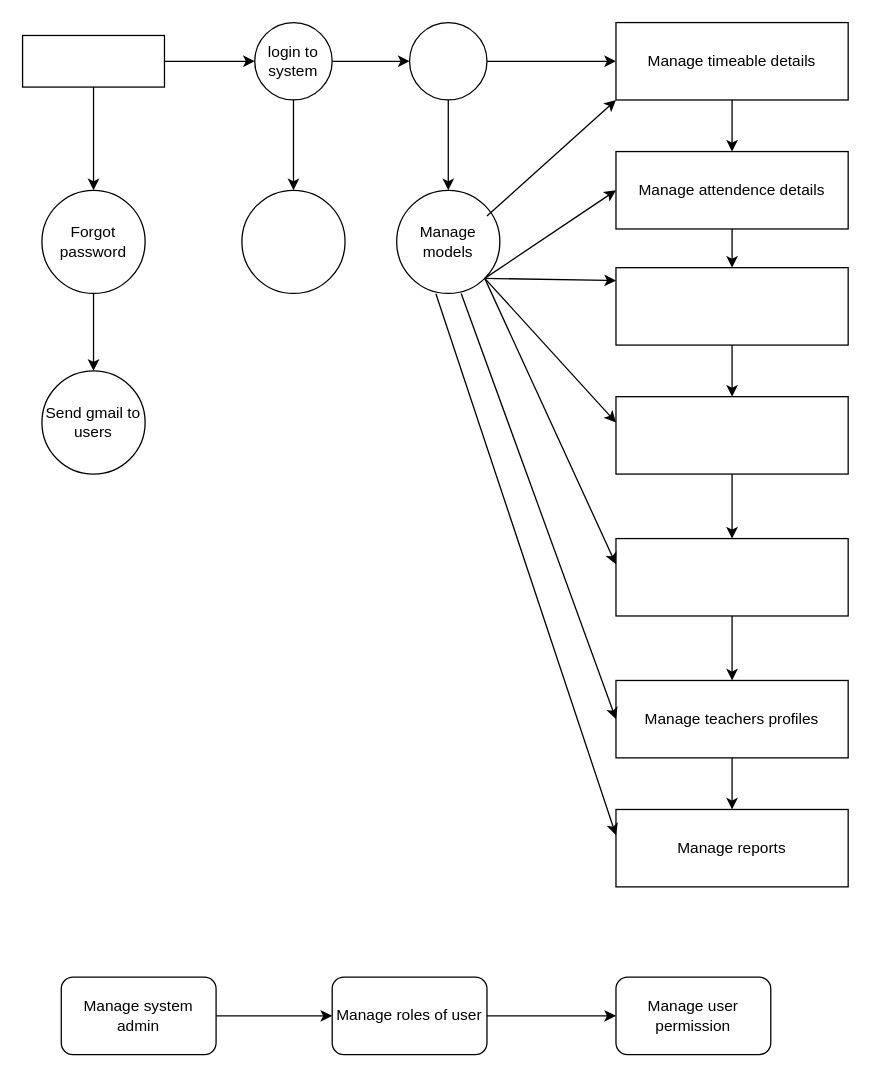
This 871x1077 diagram has some shape labels left out. The box of each missing label's shape, as (x1, y1, x2, y2) in pixels:
Admin: (21, 34, 164, 87)
Check credentials: (241, 189, 345, 293)
check roles of access: (408, 21, 487, 100)
Manage class details: (615, 266, 848, 345)
Manage fees details: (615, 537, 848, 616)
Manage student details: (615, 395, 848, 474)
